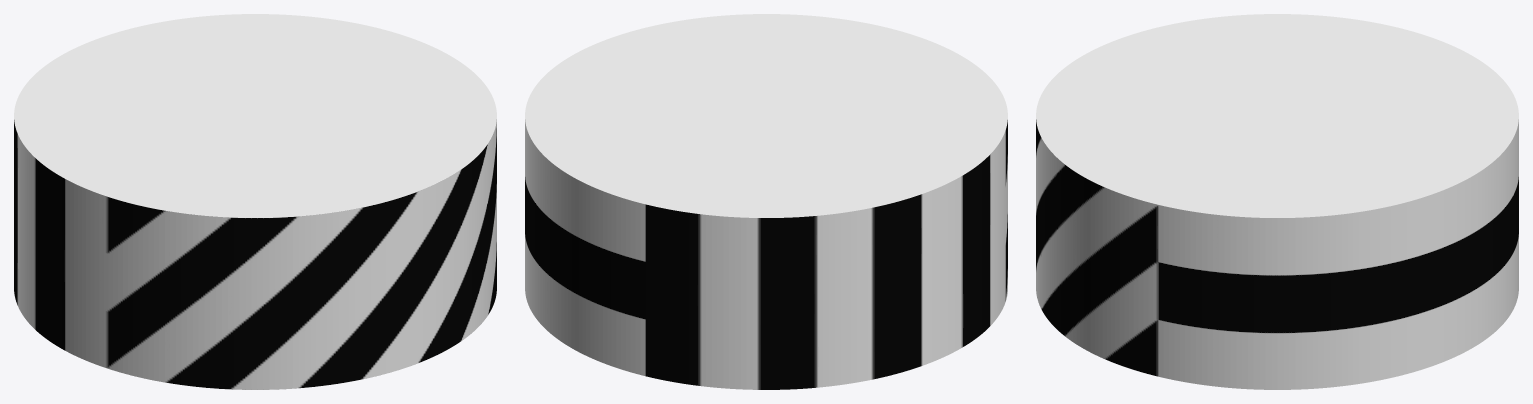
Rendered from ofstad-arena-acute-acceptance-angles.gltf.
3 views of the same model, side by side, from view 1: azimuth 30°, elevation 25°; view 2: azimuth 150°, elevation 25°; view 3: azimuth 270°, elevation 25° (orthographic).
Parts seen in each view (by area): view 1: Cylinder; view 2: Cylinder; view 3: Cylinder.
Boxes of the visible parts, <box> form: Cylinder: <box>14,14,496,389</box>; Cylinder: <box>525,14,1007,389</box>; Cylinder: <box>1036,14,1518,389</box>.
Bounding box in the file's own units: 24.45 × 9.6 × 24.45.
Materials: 1 (1 with a texture image).
